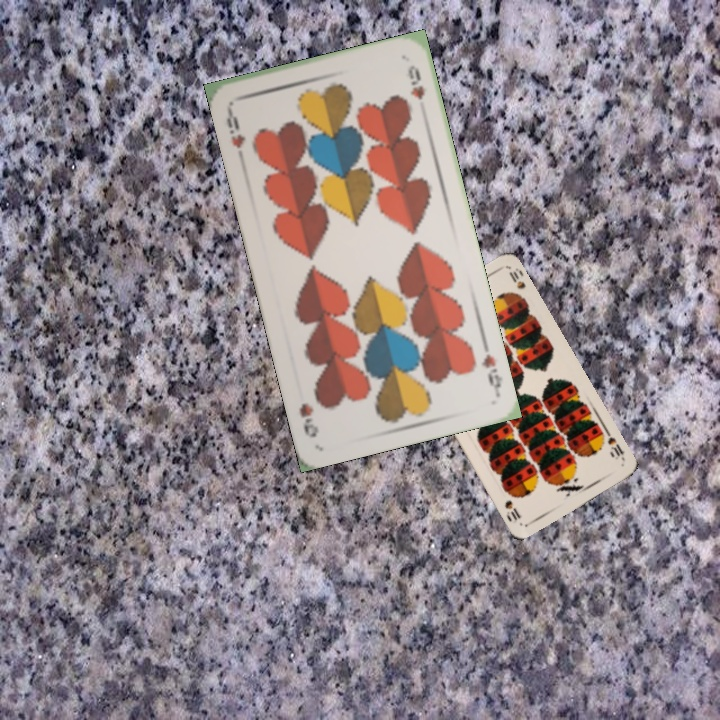H9: (222, 103, 248, 151), (478, 350, 504, 397)
S10: (602, 427, 628, 463)
